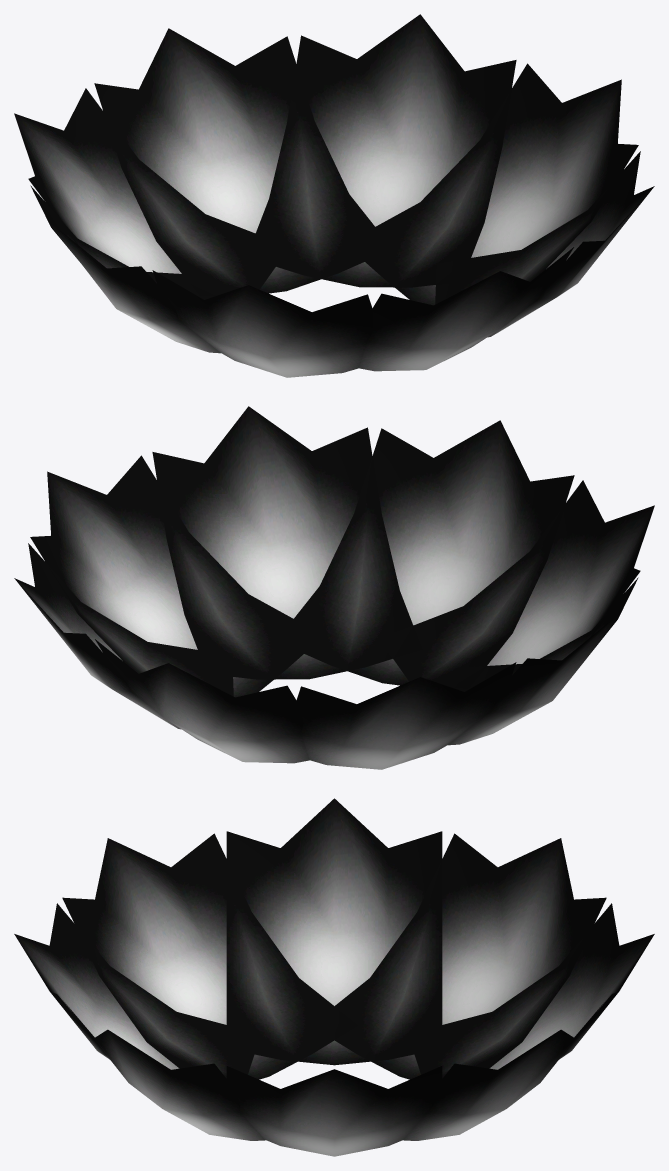
The model's file is vfx_kurp_0121.dae.
3 views of the same model, one above another, from view 1: azimuth 30°, elevation 25°; view 2: azimuth 150°, elevation 25°; view 3: azimuth 270°, elevation 25° (orthographic). The views are drawn at different scales.
Visible parts, largest first — view 1: vfx_kurp_0121; view 2: vfx_kurp_0121; view 3: vfx_kurp_0121.
Part boxes in pixels (x1,y1,x2,y2): vfx_kurp_0121: (14,14,654,377); vfx_kurp_0121: (14,406,654,769); vfx_kurp_0121: (14,798,654,1156).
Size of the model in its own units: 11.9 by 11.9 by 3.5.
Materials: 1 (1 with a texture image).
